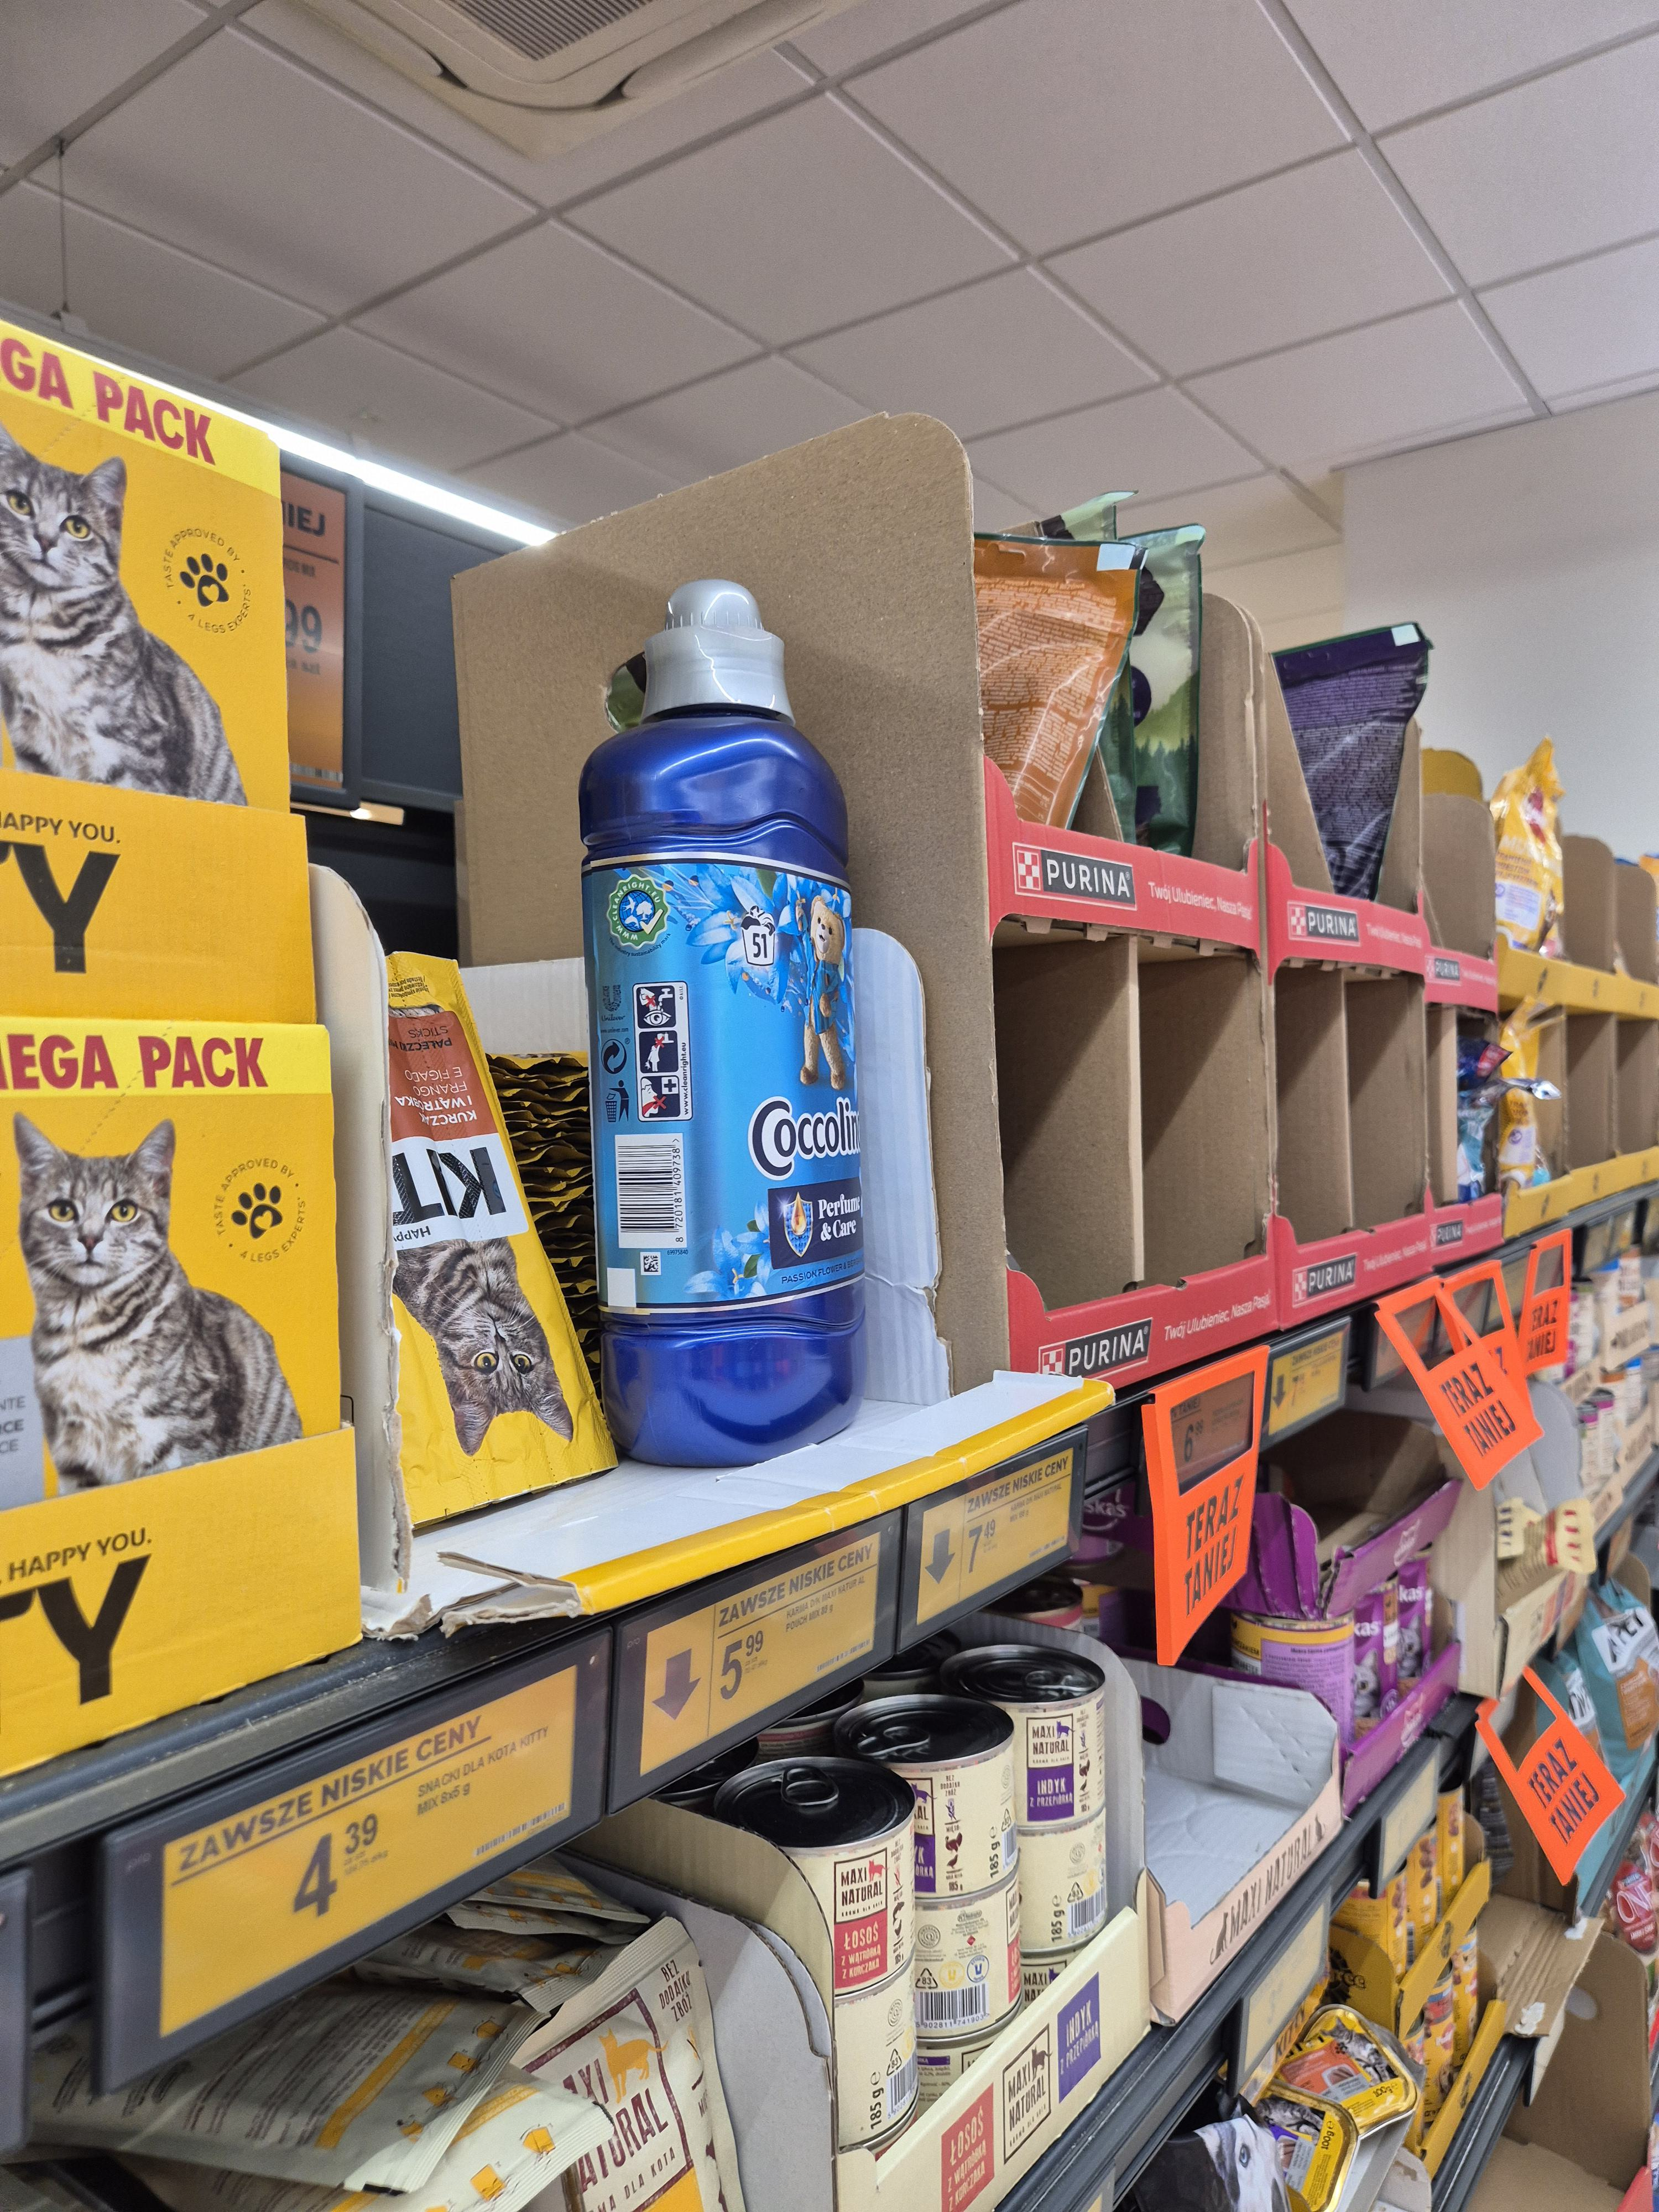cocolino: (566, 589, 899, 1475)
